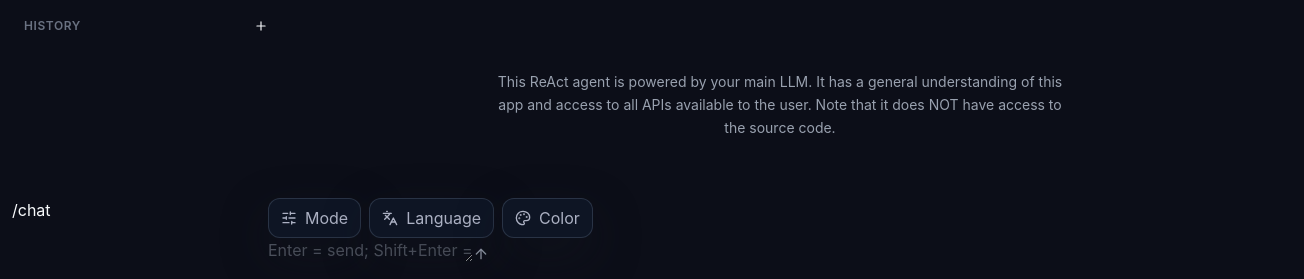
ChatPage conversation URL › puts a conversation created by the first message into the URL without refetching it
Type "hi there" into the text box with test id "chat-input". click: (370, 250)
box: [268,238,473,262]
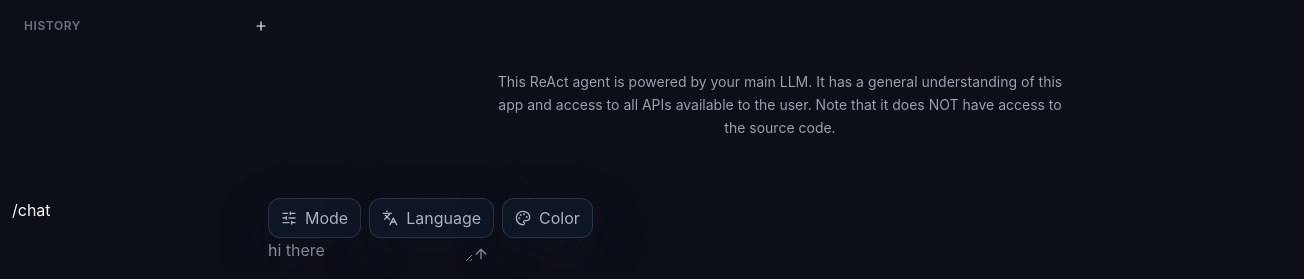
Click the button with test id "chat-send". click: (481, 254)
box: [473,246,489,262]
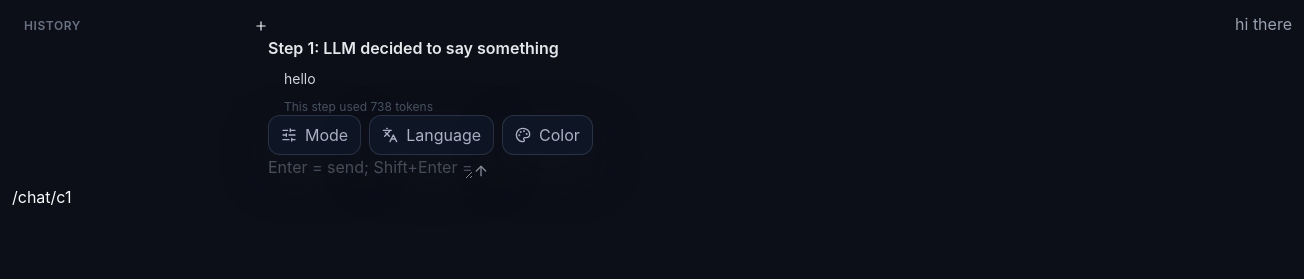
Now the text "hello" is shown, box [284,70,316,87]
Now the text with test id "location" reads "/chat/c1", box [12,187,72,207]
